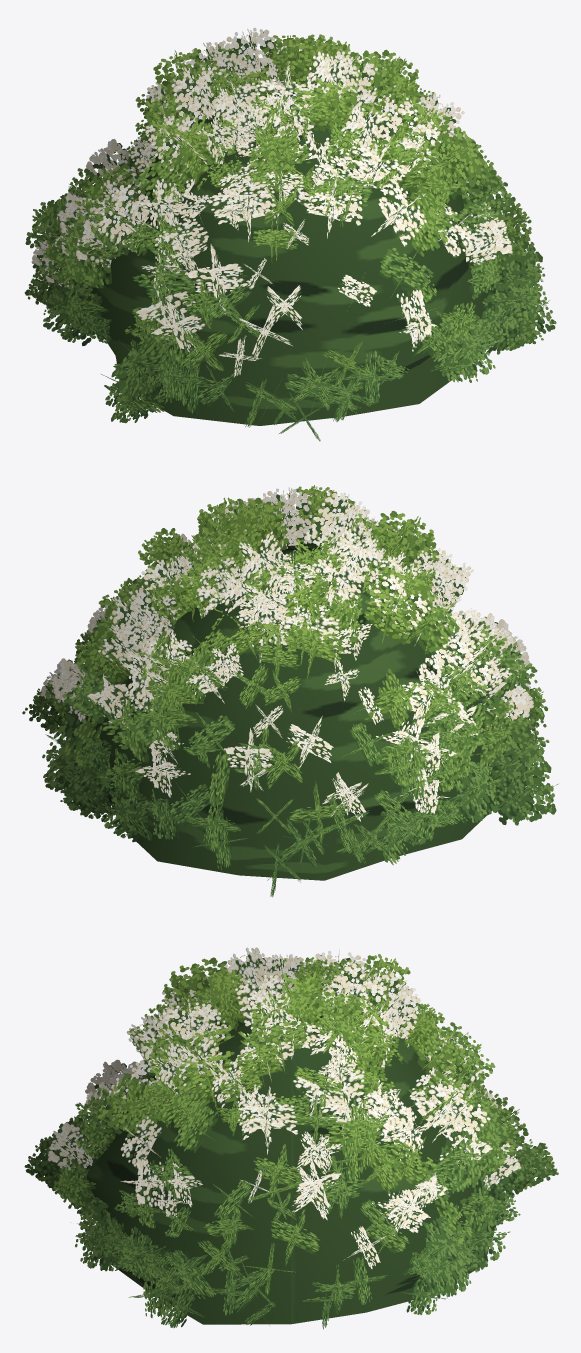
3 views of the same model, one above another, from view 1: azimuth 30°, elevation 25°; view 2: azimuth 150°, elevation 25°; view 3: azimuth 270°, elevation 25° (orthographic). The views are drawn at different scales.
Parts seen in each view (by area): view 1: Mesh_shrub; view 2: Mesh_shrub; view 3: Mesh_shrub.
Boxes of the visible parts, left/top/right/bottom form: Mesh_shrub: left=24, top=28, right=556, bottom=441; Mesh_shrub: left=22, top=485, right=558, bottom=897; Mesh_shrub: left=24, top=947, right=558, bottom=1329.
Size of the model in its own units: 2.2 by 1.46 by 2.29.
1 material, 1 textured.
